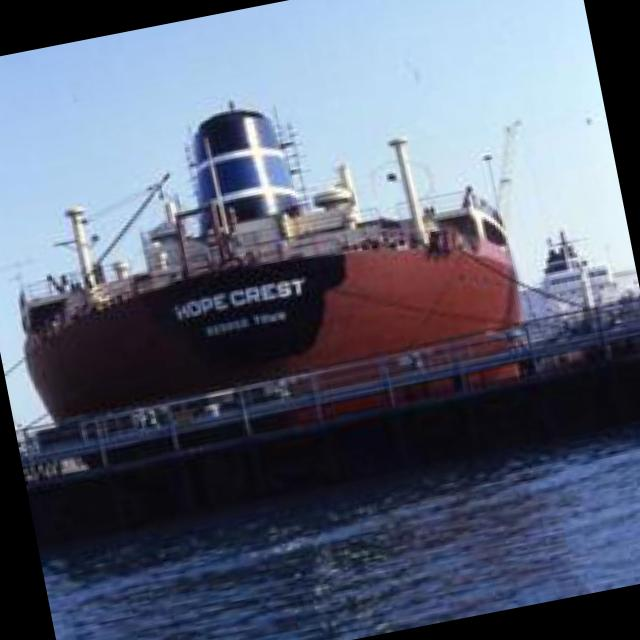boat: (0, 137, 545, 423)
